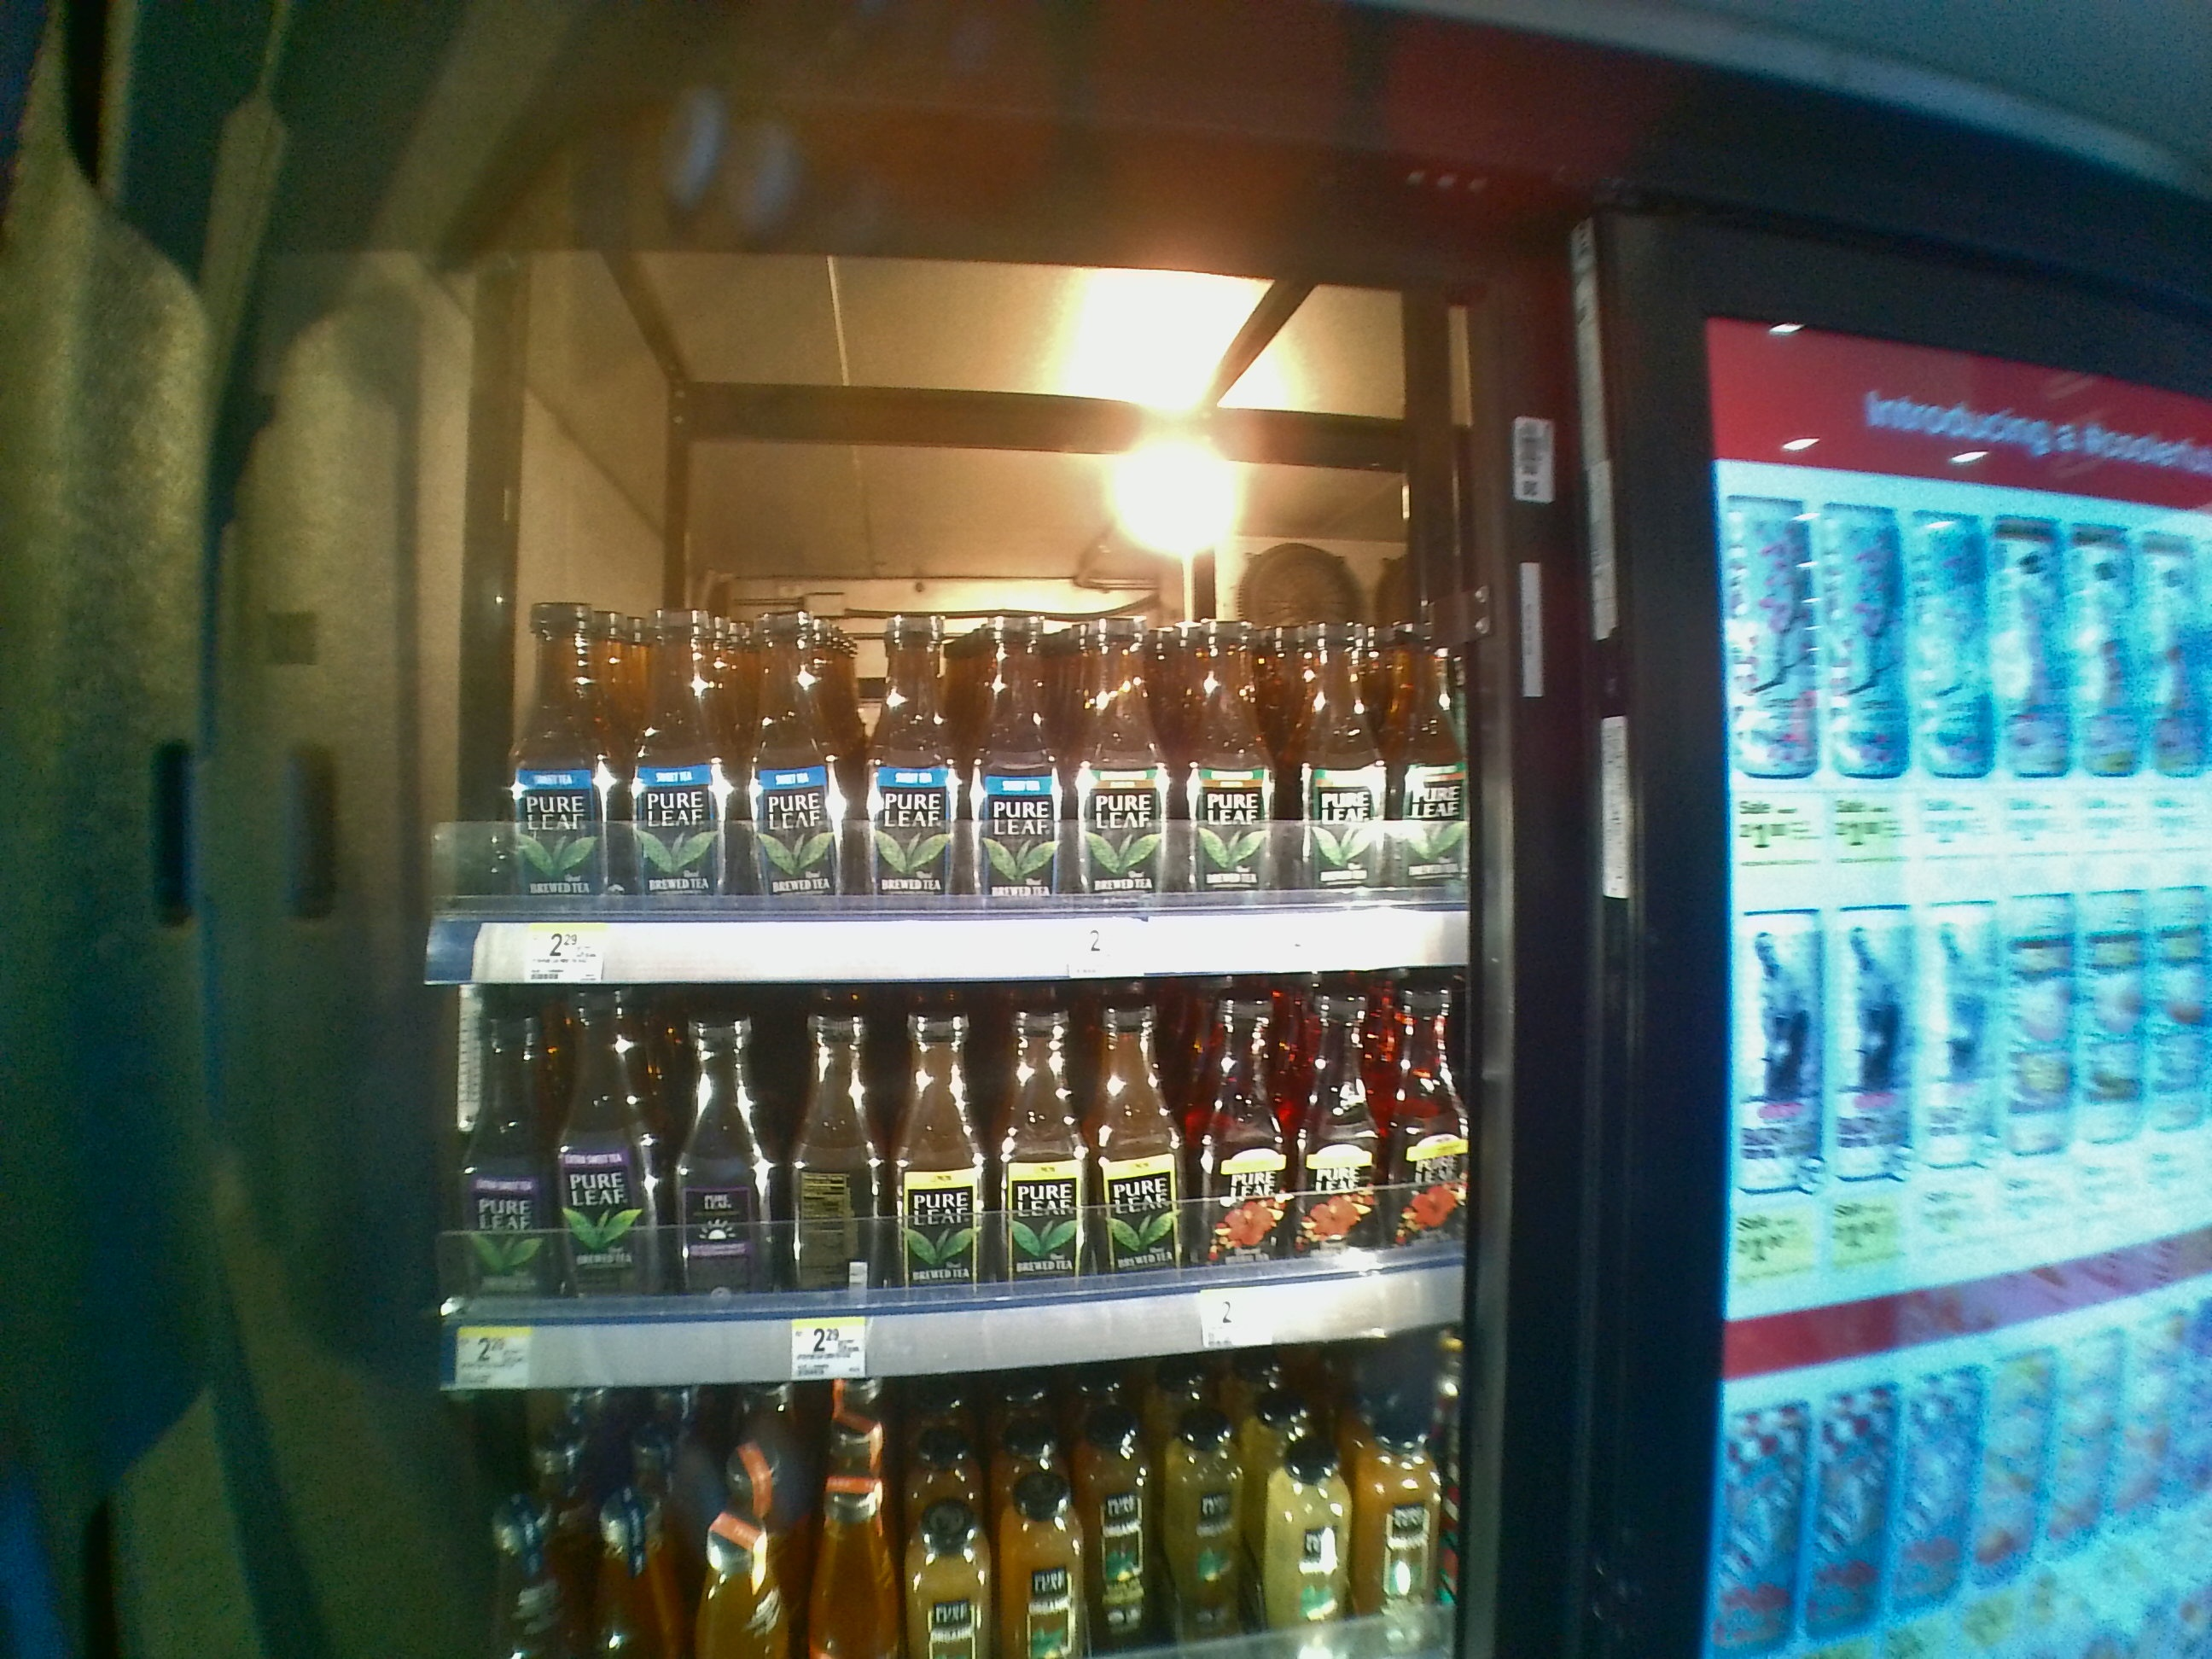shelf: (425, 392, 1470, 979), (415, 997, 1480, 1384)
